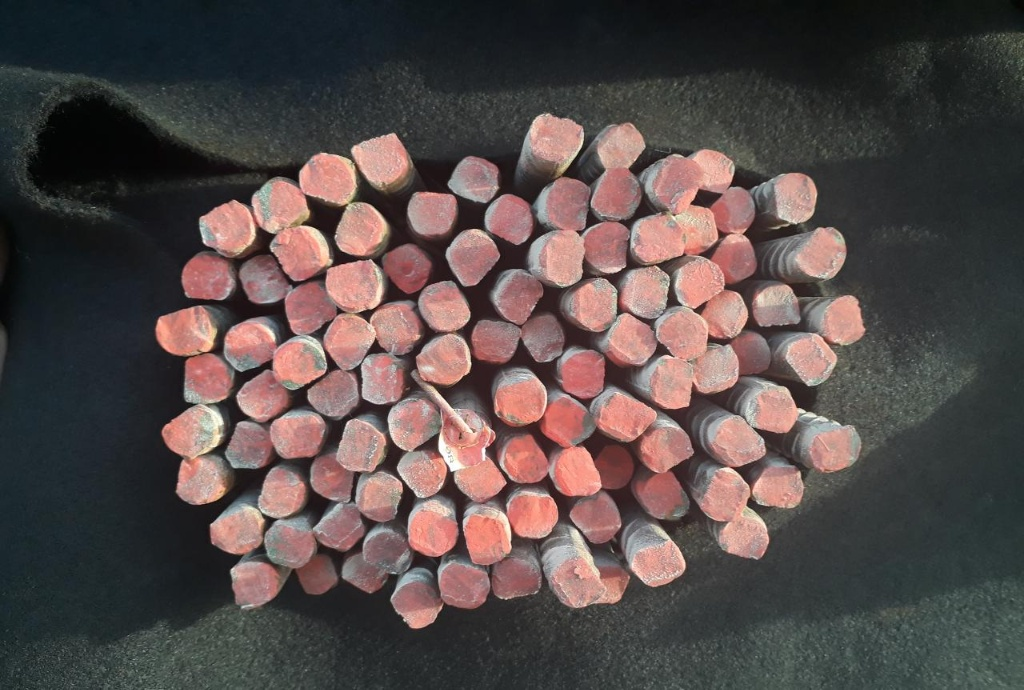dipstick: (253, 175, 310, 233), (551, 556, 605, 611), (325, 259, 381, 312), (324, 314, 375, 372), (156, 306, 216, 355), (352, 132, 407, 185), (448, 230, 500, 286), (597, 392, 656, 441), (163, 405, 218, 457), (199, 199, 252, 252), (786, 334, 838, 388), (300, 154, 357, 203), (417, 334, 471, 385), (528, 112, 583, 162), (180, 251, 237, 299), (286, 280, 338, 332), (711, 416, 766, 465), (655, 157, 703, 213), (702, 466, 750, 522), (493, 377, 546, 427), (237, 370, 291, 419), (274, 226, 324, 278), (336, 203, 385, 256), (744, 387, 798, 435), (440, 414, 487, 469), (226, 320, 275, 372), (544, 397, 596, 446), (210, 506, 264, 553), (355, 471, 404, 522), (390, 401, 441, 450), (592, 169, 643, 218), (239, 256, 291, 304), (337, 419, 385, 471), (810, 425, 862, 473), (464, 513, 511, 566), (633, 213, 683, 262), (798, 228, 847, 278), (272, 342, 326, 387), (678, 256, 723, 310), (631, 543, 686, 587), (184, 354, 234, 402), (502, 434, 550, 484), (571, 497, 621, 545), (643, 425, 694, 472), (307, 371, 359, 417), (439, 564, 491, 610), (547, 176, 590, 231), (371, 305, 419, 354), (270, 416, 326, 458), (176, 458, 225, 506), (419, 282, 469, 329), (455, 456, 505, 503), (659, 311, 707, 359), (690, 346, 738, 394), (314, 503, 363, 550), (486, 194, 533, 243), (390, 583, 441, 628), (625, 264, 670, 315), (265, 521, 313, 568), (399, 451, 447, 498), (598, 123, 646, 170), (543, 231, 584, 286), (555, 447, 601, 496), (383, 244, 430, 291), (449, 154, 497, 200), (611, 314, 657, 362), (712, 234, 757, 283), (508, 495, 558, 539), (585, 221, 628, 272), (774, 172, 817, 223), (575, 279, 617, 331), (643, 472, 689, 519), (409, 511, 457, 556), (261, 468, 305, 517), (703, 290, 747, 339), (721, 517, 767, 563), (499, 274, 544, 321), (406, 191, 454, 235), (653, 358, 694, 409), (824, 295, 865, 346), (227, 422, 271, 469), (229, 564, 276, 608), (361, 355, 403, 404), (754, 467, 803, 509), (562, 350, 605, 397), (493, 558, 543, 598), (673, 207, 717, 252), (712, 187, 755, 233), (522, 316, 565, 361), (311, 456, 352, 503), (472, 322, 521, 361), (690, 147, 733, 190), (363, 532, 409, 572), (755, 285, 800, 325), (595, 444, 633, 490), (297, 554, 338, 596), (343, 554, 386, 593), (732, 334, 772, 375), (592, 564, 629, 605)
